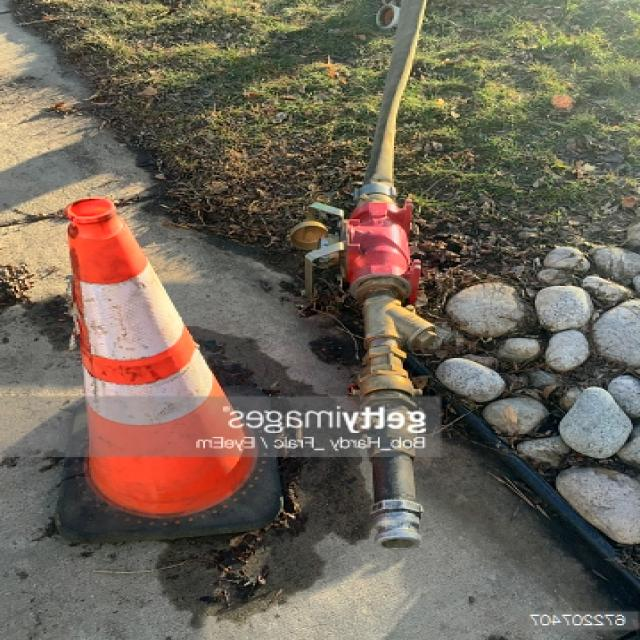cone: (38, 191, 289, 548)
